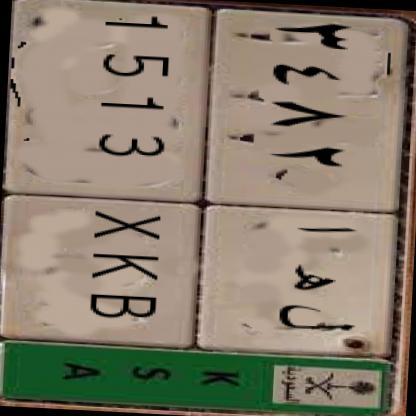english: (5, 0, 220, 351)
